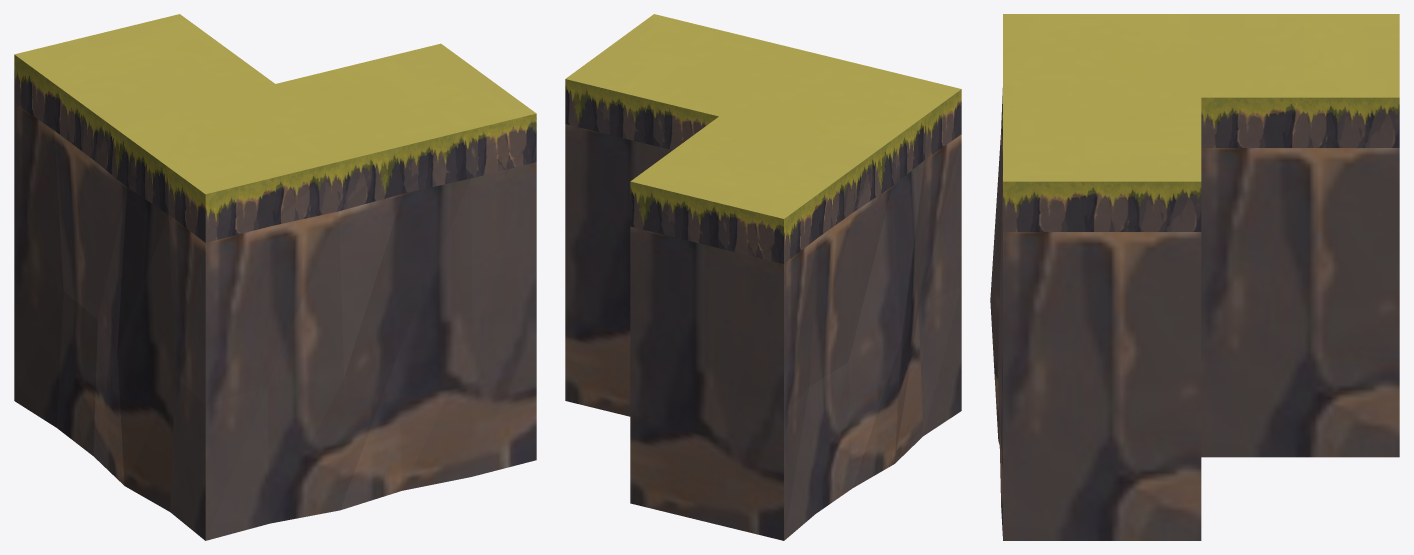
Rendered from SM_RC_Terrain_CliffCorner_Outer_8x8x8.gltf.
3 views of the same model, side by side, from view 1: azimuth 30°, elevation 25°; view 2: azimuth 150°, elevation 25°; view 3: azimuth 270°, elevation 25° (orthographic). The views are drawn at different scales.
Parts seen in each view (by area): view 1: SM_RC_Terrain_CliffCorner_Outer_8x8x8; view 2: SM_RC_Terrain_CliffCorner_Outer_8x8x8; view 3: SM_RC_Terrain_CliffCorner_Outer_8x8x8.
Part boxes in pixels (x1,y1,x2,y2): SM_RC_Terrain_CliffCorner_Outer_8x8x8: (14, 14, 536, 540); SM_RC_Terrain_CliffCorner_Outer_8x8x8: (565, 14, 961, 540); SM_RC_Terrain_CliffCorner_Outer_8x8x8: (990, 14, 1399, 540).
Size of the model in its own units: 8.28 by 8 by 8.26.
Materials: 1 (1 with a texture image).
